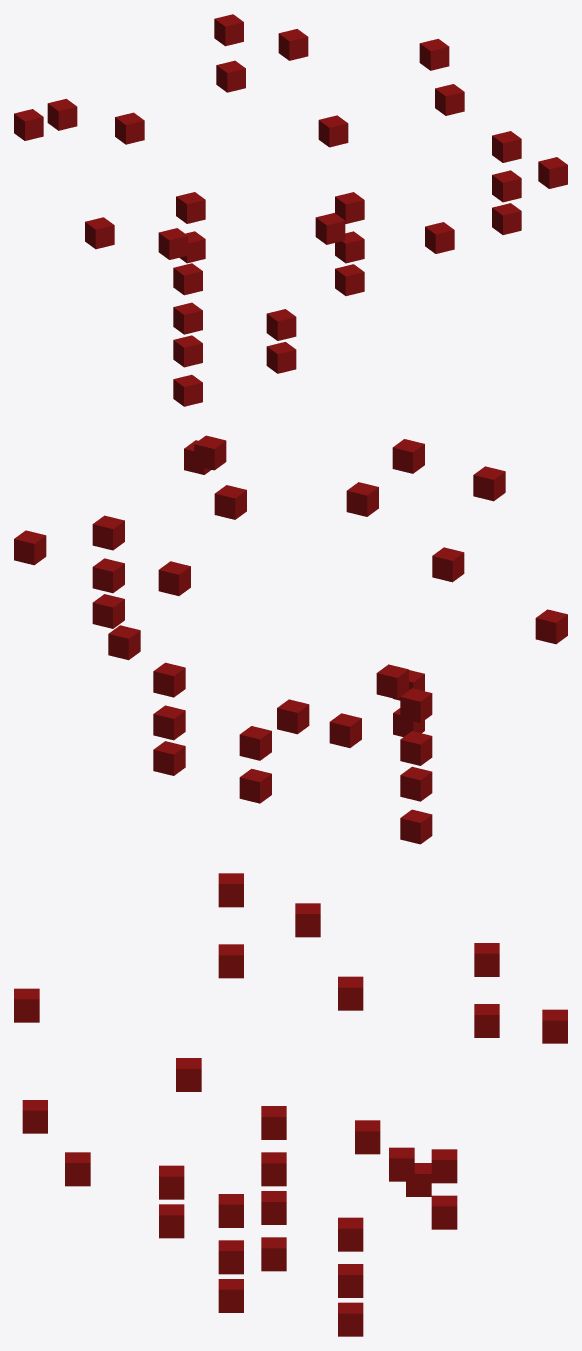
Rendered from Mystic Tree Red Lanterns .fbx.
The picture shows the model from 3 angles, top to bottom: view 1: azimuth 30°, elevation 25°; view 2: azimuth 150°, elevation 25°; view 3: azimuth 270°, elevation 25°; orthographic projection. The views are drawn at different scales.
Parts seen in each view (by area): view 1: Mystic Tree Red Lanterns Cleaned; view 2: Mystic Tree Red Lanterns Cleaned; view 3: Mystic Tree Red Lanterns Cleaned.
Part boxes in pixels (x1,y1,x2,y2): Mystic Tree Red Lanterns Cleaned: (14,14,567,406); Mystic Tree Red Lanterns Cleaned: (14,435,567,844); Mystic Tree Red Lanterns Cleaned: (14,873,567,1336).
Bounding box in the file's own units: 680 × 520 × 650.
1 material, 1 textured.
